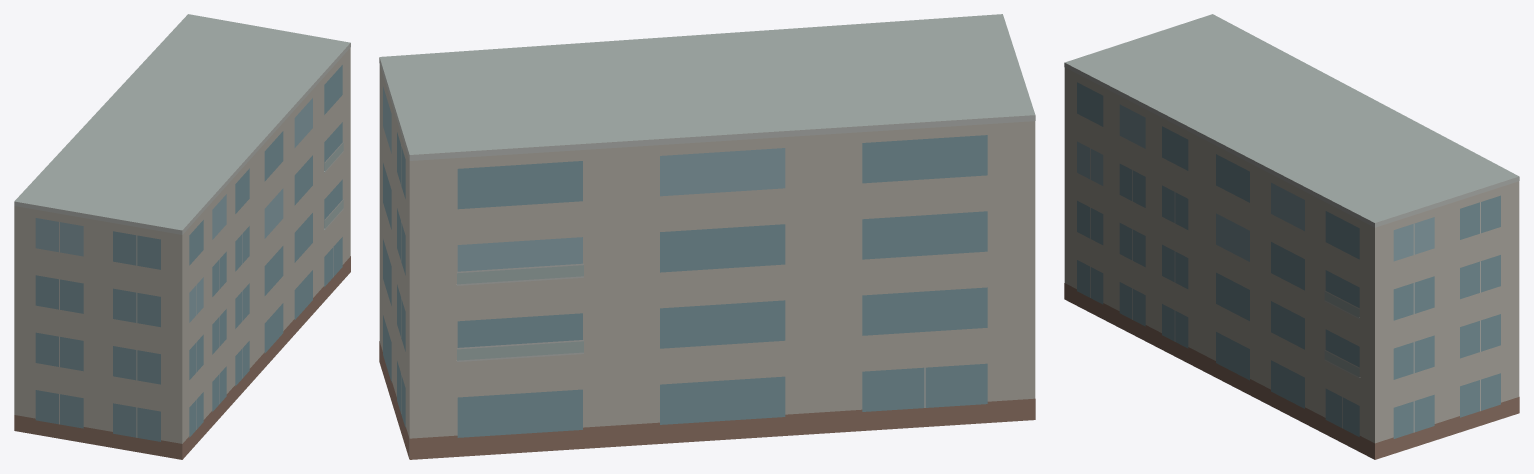
File: survey-upis-33012577.glb
3 renders of one model, left to right at view 1: azimuth 30°, elevation 25°; view 2: azimuth 150°, elevation 25°; view 3: azimuth 270°, elevation 25°, orthographic. The views are drawn at different scales.
Parts seen in each view (by area): view 1: survey-upis-33012577.tmp; view 2: survey-upis-33012577.tmp; view 3: survey-upis-33012577.tmp.
Boxes of the visible parts, left/top/right/bottom form: survey-upis-33012577.tmp: left=14, top=14, right=350, bottom=459; survey-upis-33012577.tmp: left=379, top=14, right=1035, bottom=459; survey-upis-33012577.tmp: left=1064, top=14, right=1519, bottom=459.
Size of the model in its own units: 23.49 by 12.4 by 21.6.
